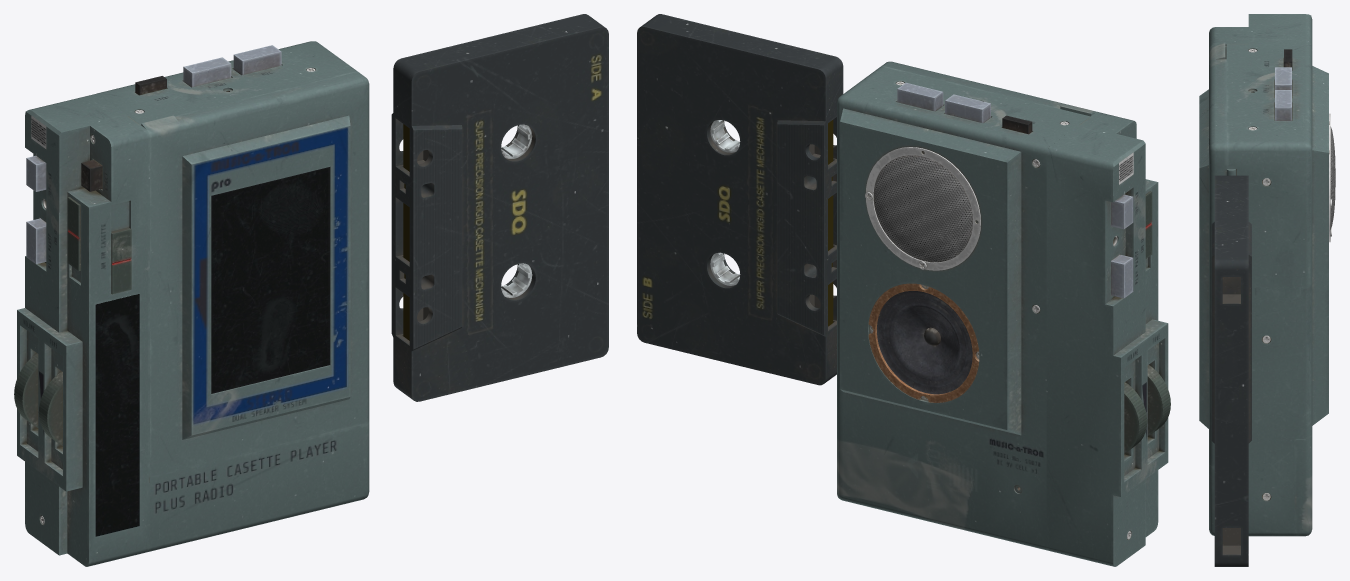
The model's file is ph_portable_cassette_player.glb.
3 views of the same model, side by side, from view 1: azimuth 30°, elevation 25°; view 2: azimuth 150°, elevation 25°; view 3: azimuth 270°, elevation 25° (orthographic). The views are drawn at different scales.
Visible parts, largest first — view 1: ph_portable_cassette_player; view 2: ph_portable_cassette_player; view 3: ph_portable_cassette_player.
Part boxes in pixels (x1=…): ph_portable_cassette_player: x1=14, y1=14, x2=608, y2=566; ph_portable_cassette_player: x1=637, y1=14, x2=1170, y2=566; ph_portable_cassette_player: x1=1199, y1=14, x2=1335, y2=566.
Size of the model in its own units: 0.1723 by 0.1303 by 0.0397.
2 materials, 2 textured.
